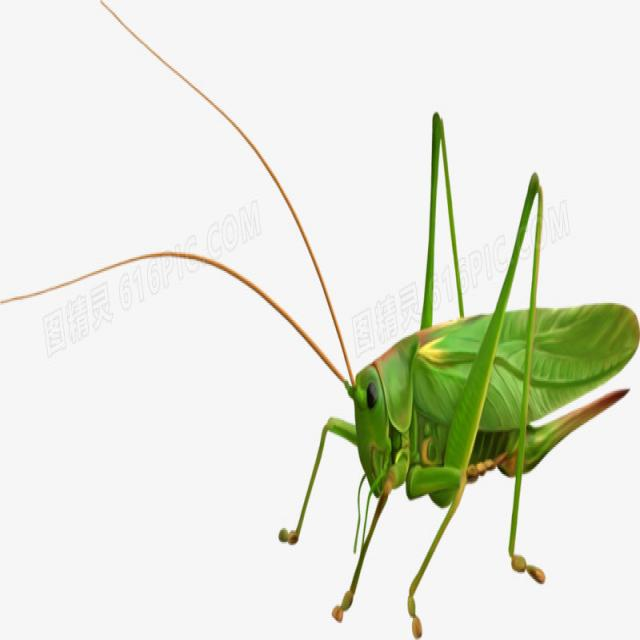ZhaMeng: (251, 93, 639, 589)
